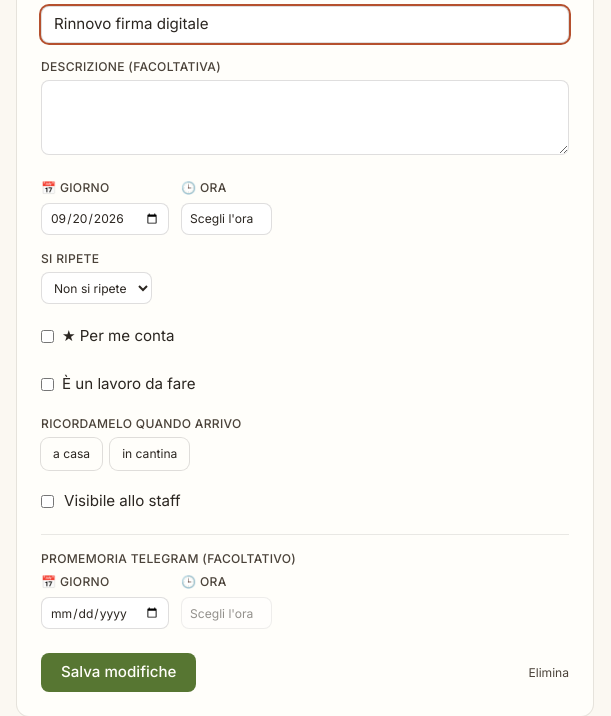
Test: 🔴 in Agenda «Elimina» chiede conferma › «Annulla» chiude la richiesta senza cancellare
(page scrolled)
Click the button "Elimina" at {"x": 549, "y": 673}, box [528,657,569,689]
(page scrolled)
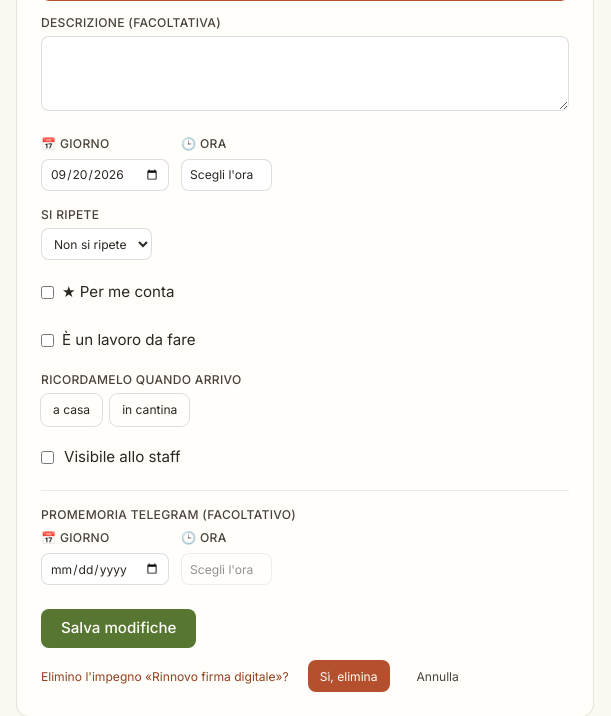
Click the button "Annulla" at {"x": 438, "y": 676}, box [408,660,467,692]
(page scrolled)
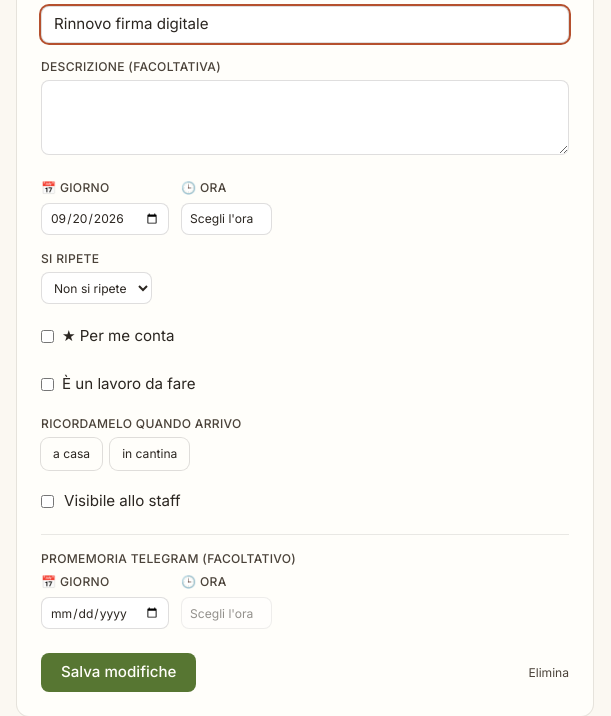
Expected: the button "Elimina" is shown, [528,657,569,689]
Expected: the button "Sì, elimina" is gone
